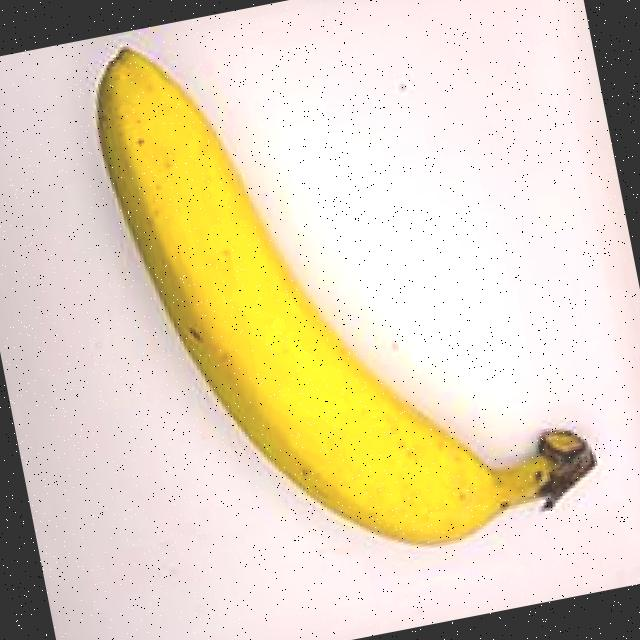Ripe: (38, 0, 636, 618)
